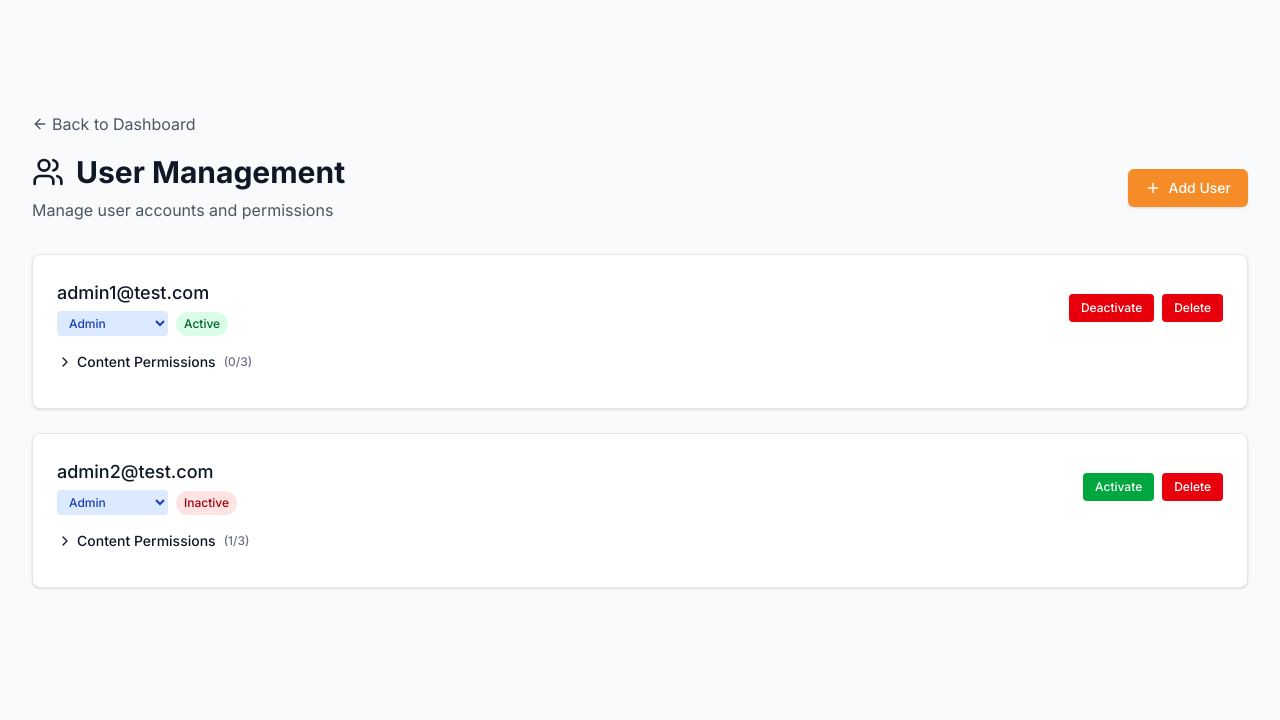
Test: UserManagement › Permission management › should display content permissions for admin users
The image size is (1280, 720).
Note: Click on the first user's permissions to expand them
Click the button "Content Permissions (0/3)" at point(155, 362), box 57,352 -> 252,372
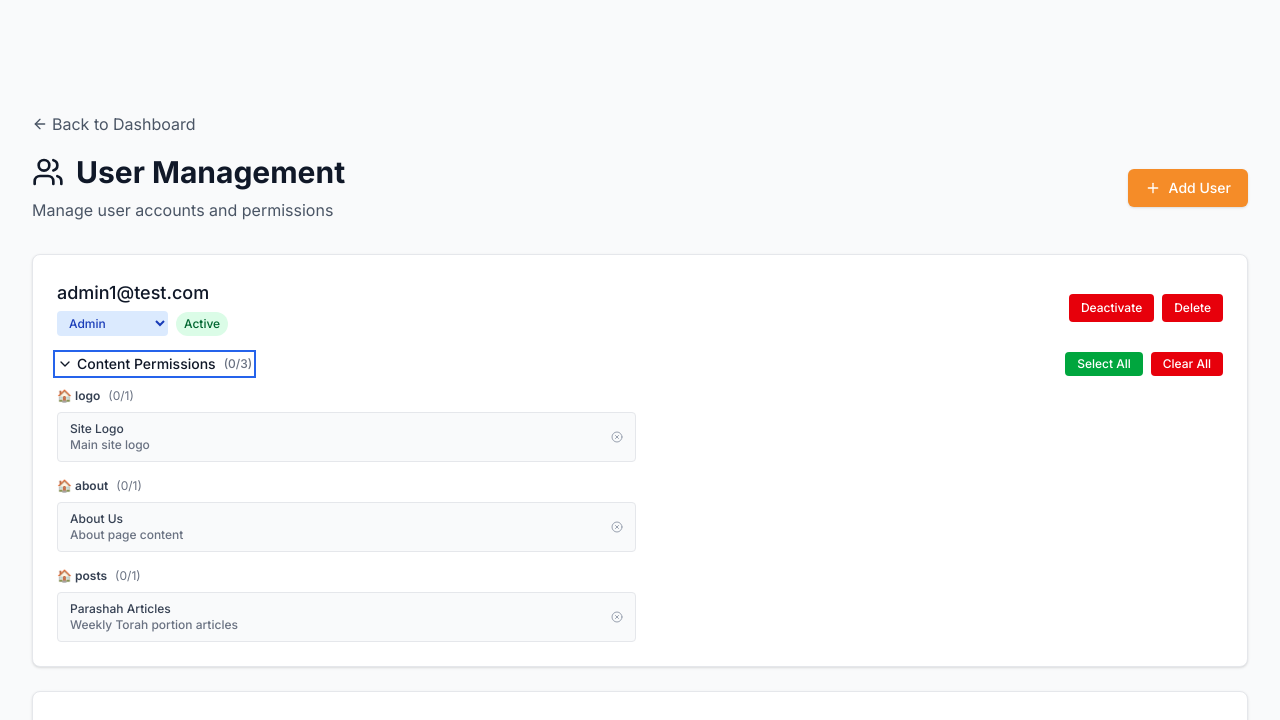
Now the text "Site Logo" is shown, box 70,421 -> 124,436
Now the text "About Us" is shown, box 70,511 -> 123,526
